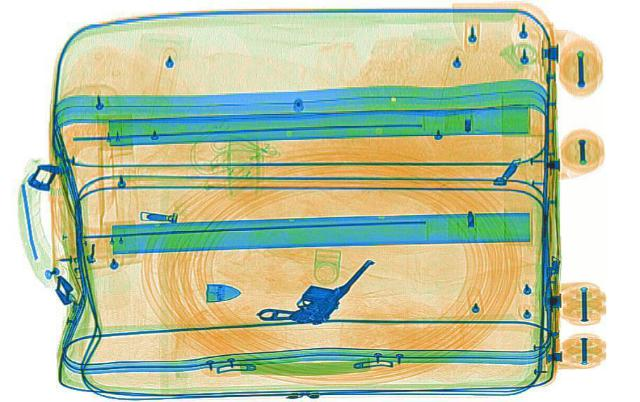Gun: (252, 243, 378, 336)
